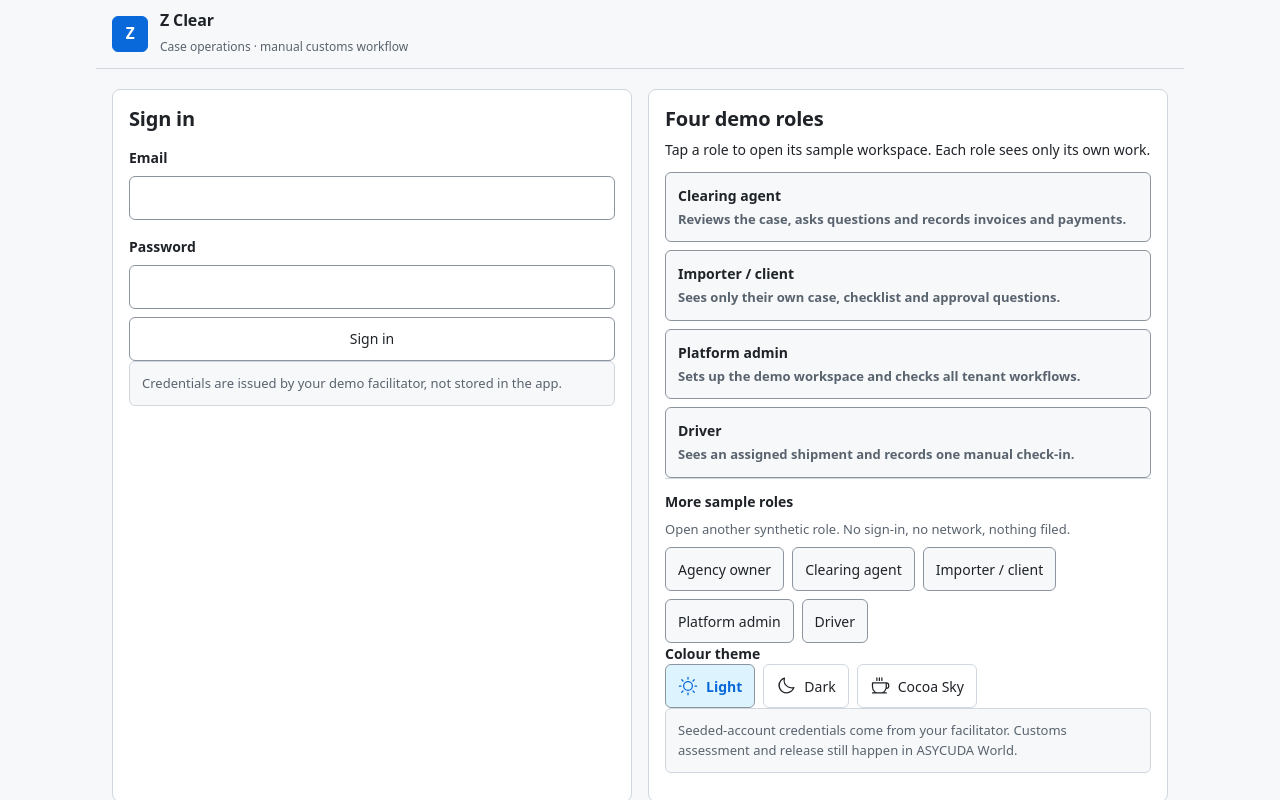
App › keeps invoices from another case out of the selected case file
This screenshot has width=1280, height=800.
In the field labelled "Email": [372, 198] box [129,176,615,220], type "agent@example.com"
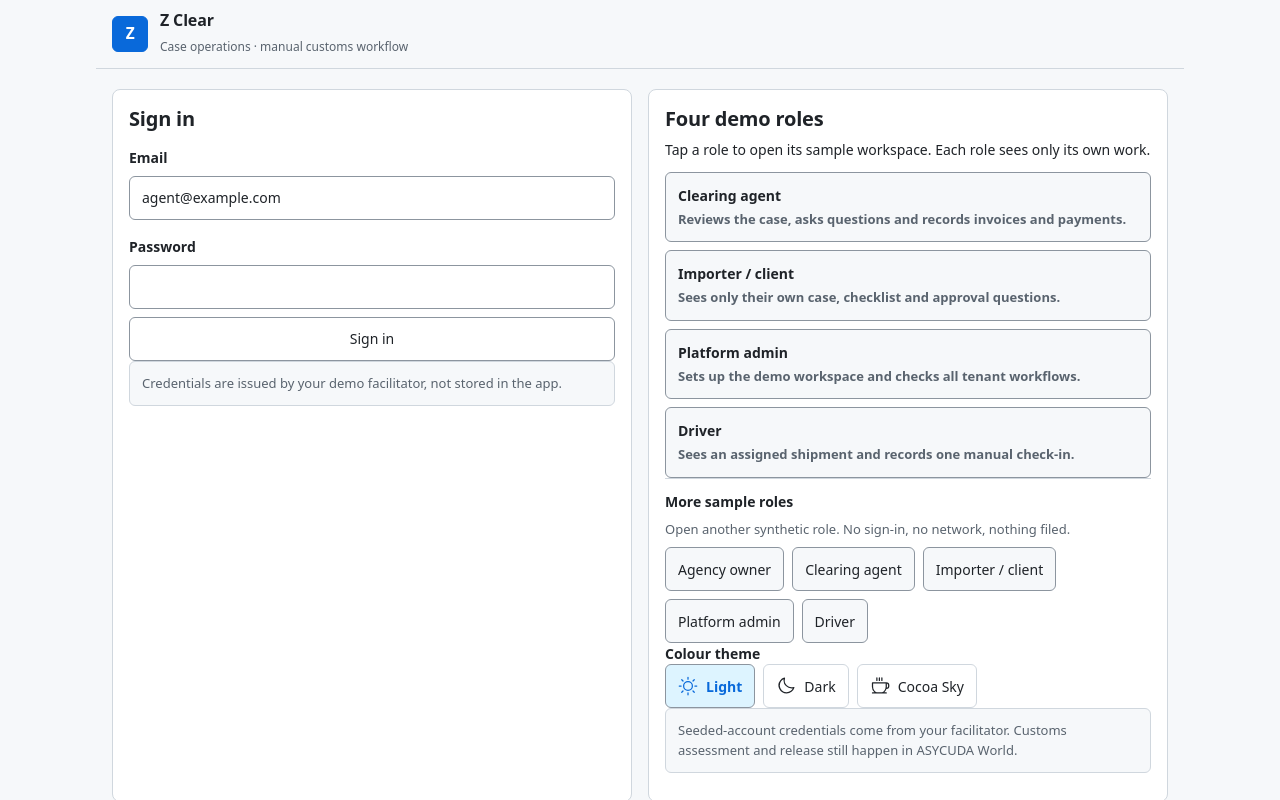
In the password field labelled "Password": [372, 287] box [129,265,615,309], type "demo-password"
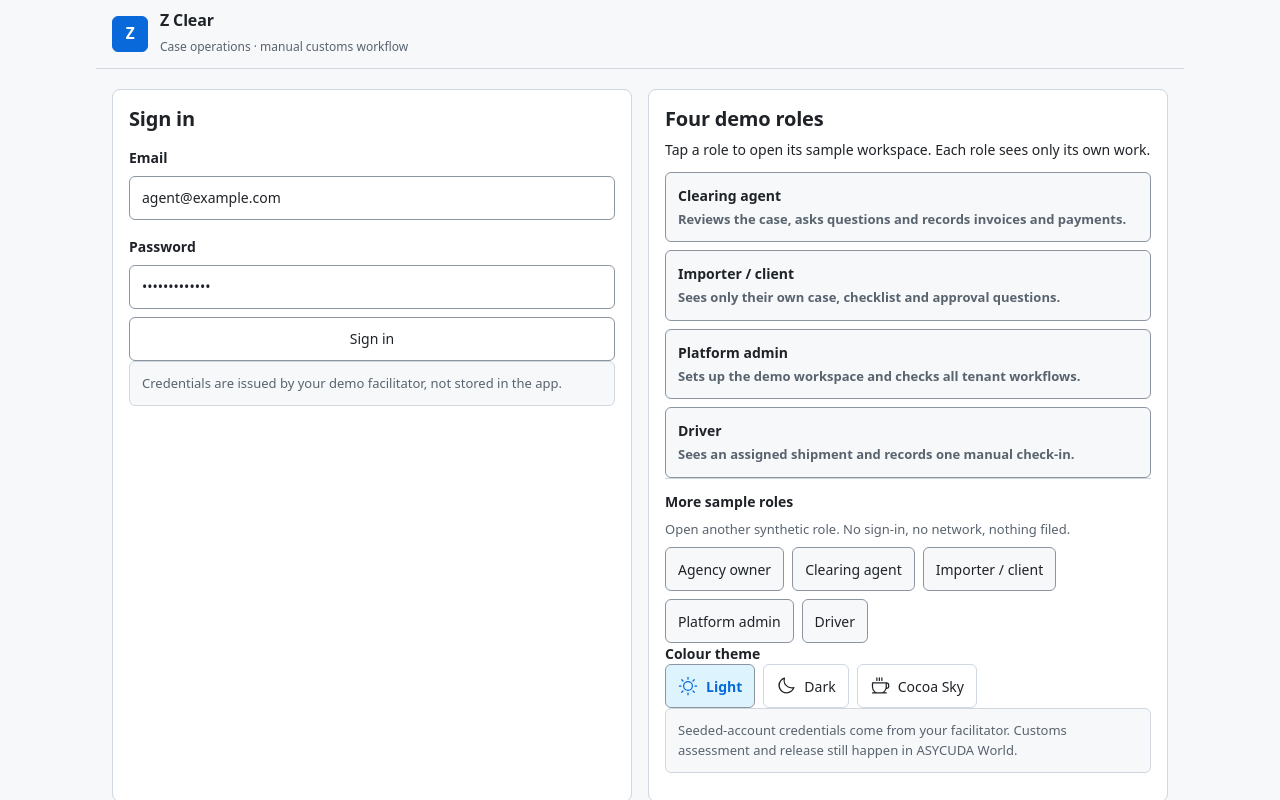
Click the button "Sign in": [372, 339] box [129,317,615,361]
(page scrolled)
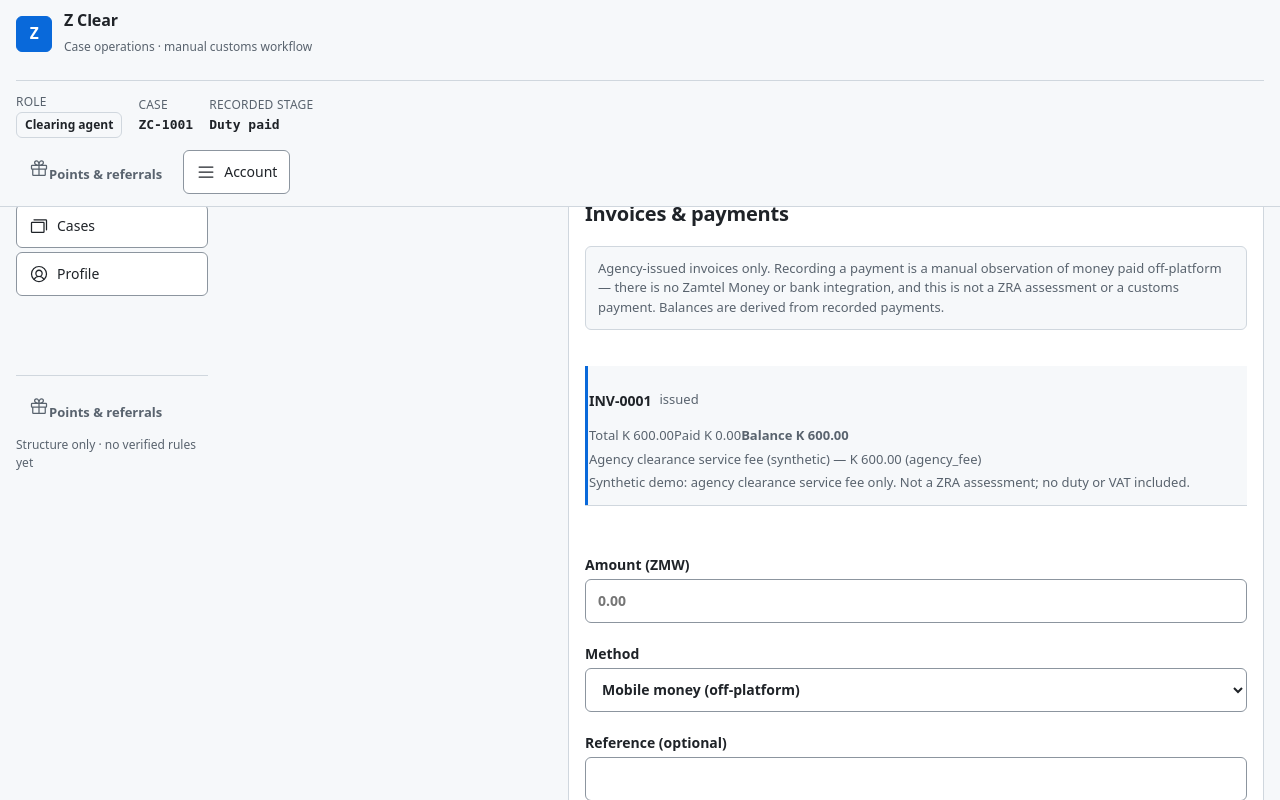
expect the text "INV-0001" is shown: met, box [589,390,652,411]
